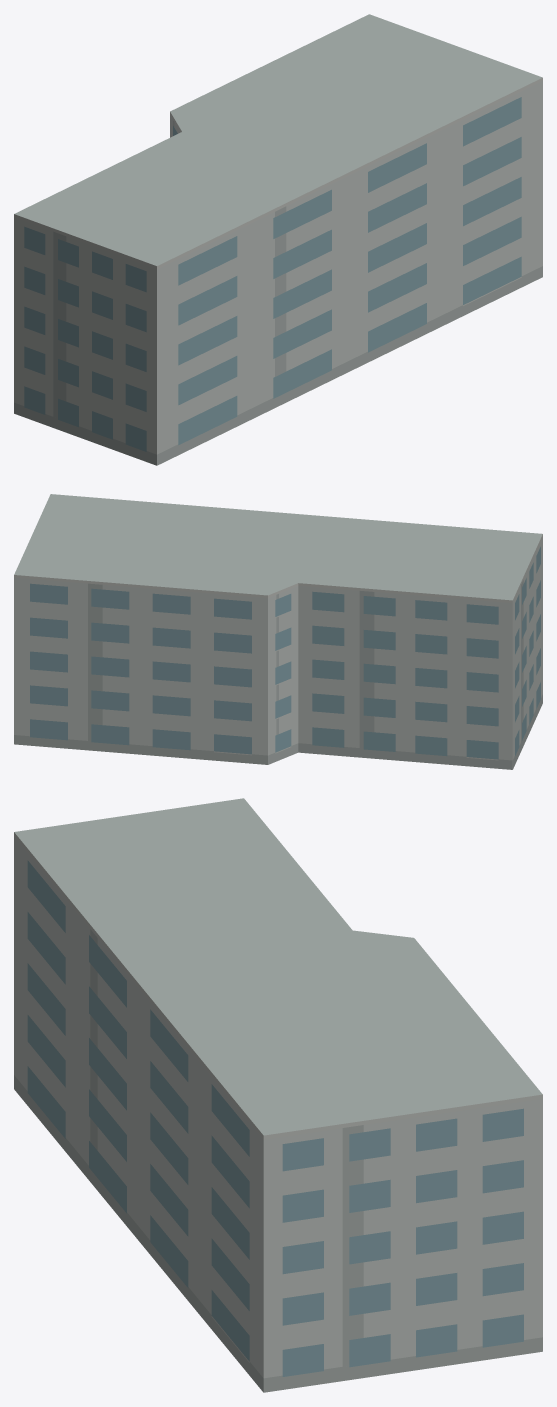
Rendered from residential-f21209c6-0260-47d8-8ef4-cb4d4ca10e31.glb.
3 views of the same model, one above another, from view 1: azimuth 30°, elevation 25°; view 2: azimuth 150°, elevation 25°; view 3: azimuth 270°, elevation 25° (orthographic). The views are drawn at different scales.
Visible parts, largest first — view 1: residential-f21209c6-0260-47d8-8ef4-cb4d4ca10e31.tmp; view 2: residential-f21209c6-0260-47d8-8ef4-cb4d4ca10e31.tmp; view 3: residential-f21209c6-0260-47d8-8ef4-cb4d4ca10e31.tmp.
Boxes of the visible parts, box(x1,y1,x2,y2) form: residential-f21209c6-0260-47d8-8ef4-cb4d4ca10e31.tmp: box(14, 14, 542, 465); residential-f21209c6-0260-47d8-8ef4-cb4d4ca10e31.tmp: box(14, 494, 542, 769); residential-f21209c6-0260-47d8-8ef4-cb4d4ca10e31.tmp: box(14, 798, 542, 1392).
Bounding box in the file's own units: 42.91 × 15.25 × 28.43.
